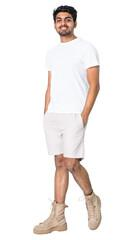Human: (36, 7, 109, 240)
